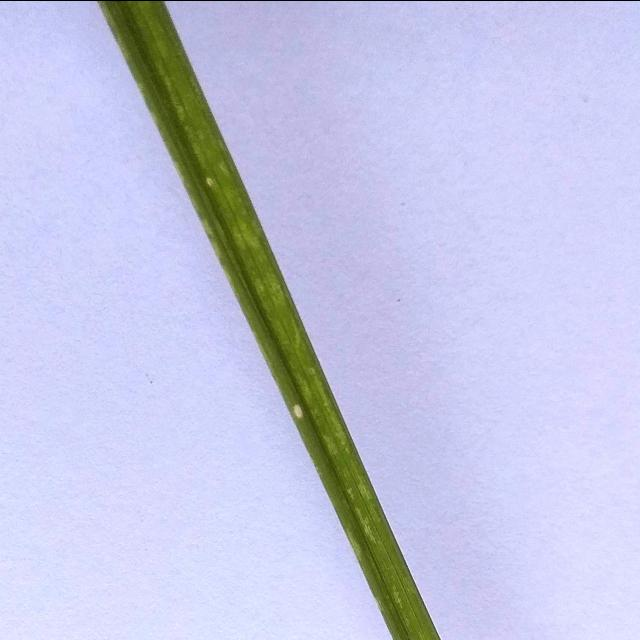Leaf blast: (68, 0, 447, 640)
